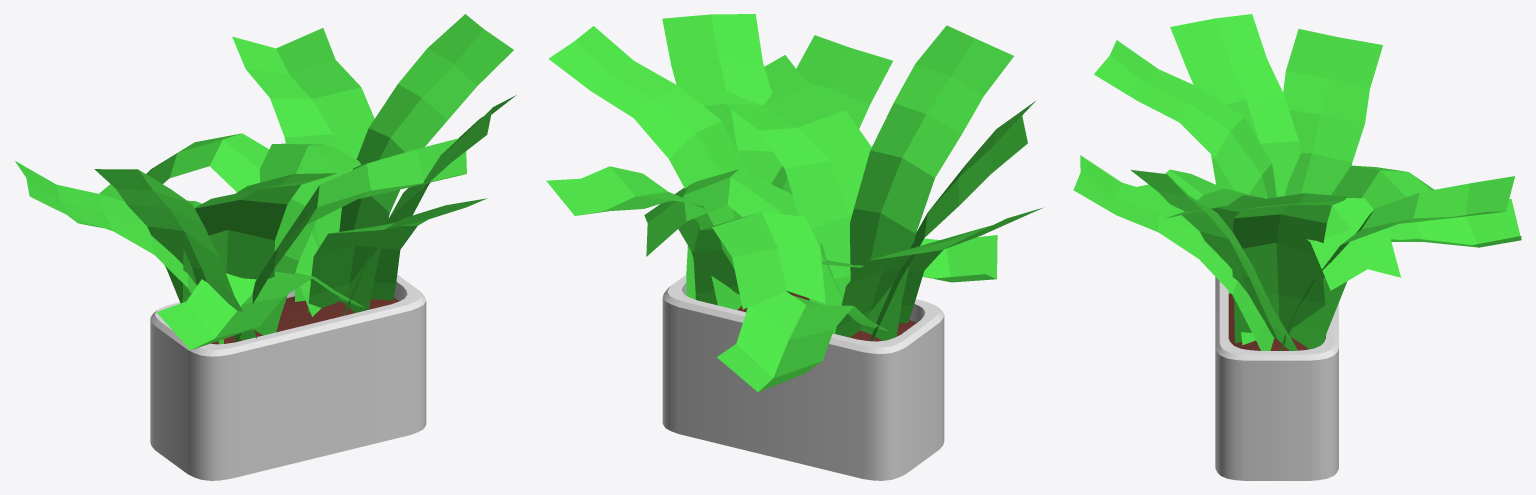
The model's file is Plant Long Test.fbx.
3 views of the same model, side by side, from view 1: azimuth 30°, elevation 25°; view 2: azimuth 150°, elevation 25°; view 3: azimuth 270°, elevation 25° (orthographic). The views are drawn at different scales.
Visible parts, largest first — view 1: Plant Long; view 2: Plant Long; view 3: Plant Long.
Part boxes in pixels (bbox=[...]): Plant Long: bbox=[15, 14, 516, 480]; Plant Long: bbox=[546, 14, 1043, 480]; Plant Long: bbox=[1073, 14, 1521, 480].
Size of the model in its own units: 3.77 by 2.66 by 3.26.
